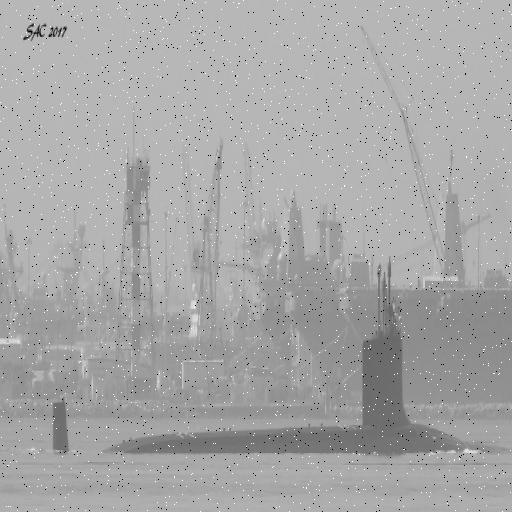submarine: (53, 337, 471, 456)
